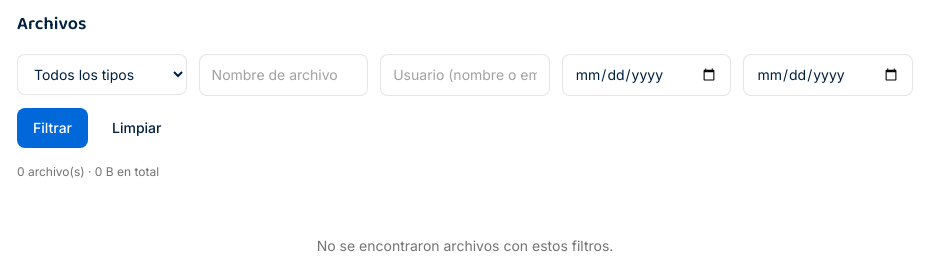
it: AdminFilesPanel › 'Limpiar' resetea el formulario y vuelve a pedir sin filtros
Type "foto" into the field with placeholder "Nombre de archivo" at (283,75), box [199, 54, 368, 96]
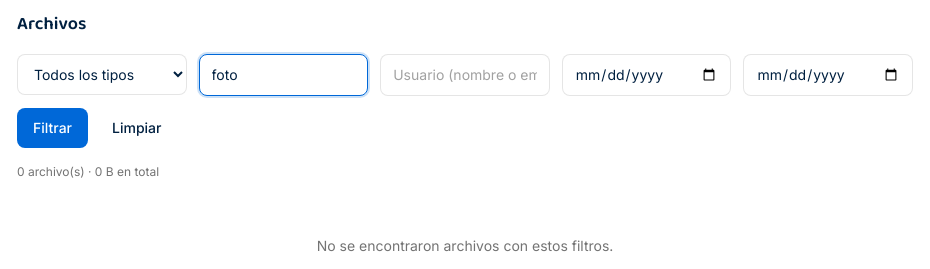
Click the button "Filtrar" at (52,128), box [17, 108, 88, 148]
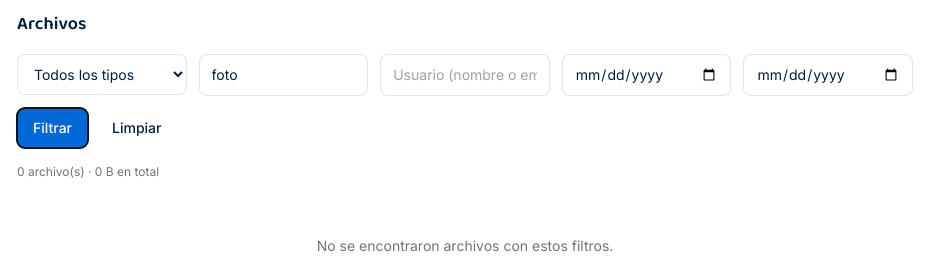
Click the button "Limpiar" at (137,128), box [96, 108, 177, 148]
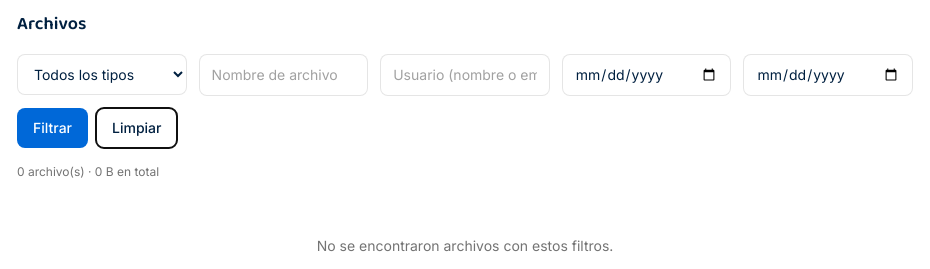
Expected: the field with placeholder "Nombre de archivo" is empty, [199, 54, 368, 96]
